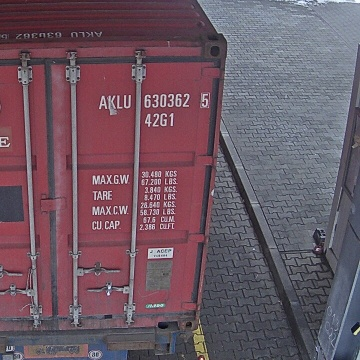serial_id: (99, 93, 208, 108)
